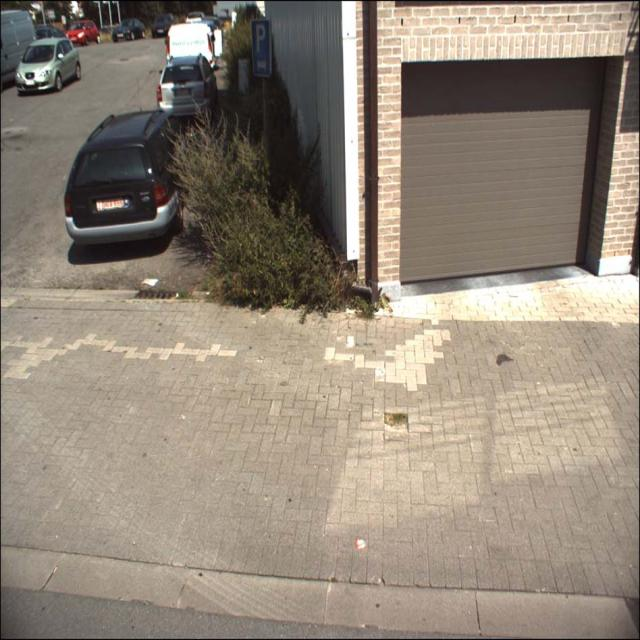park: (251, 19, 272, 78)
